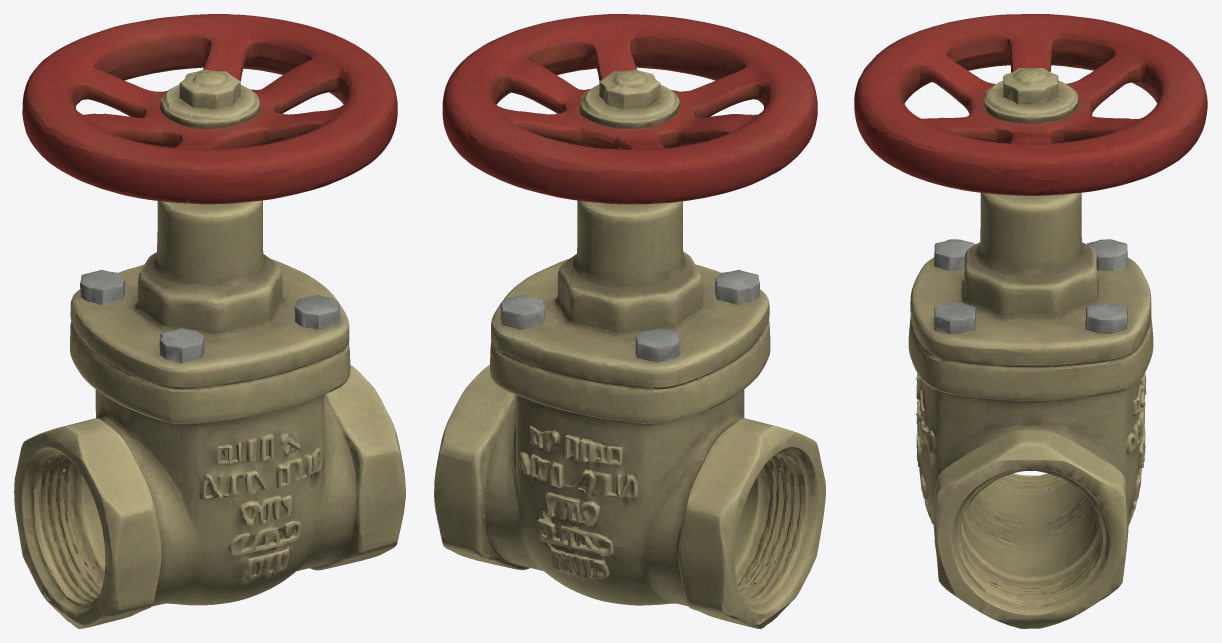
3 renders of one model, left to right at view 1: azimuth 30°, elevation 25°; view 2: azimuth 150°, elevation 25°; view 3: azimuth 270°, elevation 25°, orthographic. The views are drawn at different scales.
Parts seen in each view (by area): view 1: geometry_0; view 2: geometry_0; view 3: geometry_0.
Boxes of the visible parts, x1,y1,x2,y2 form: geometry_0: (14,14,405,628); geometry_0: (434,14,825,628); geometry_0: (854,14,1207,628).
Size of the model in its own units: 0.0886 by 0.135 by 0.0877.
1 material, 1 textured.
